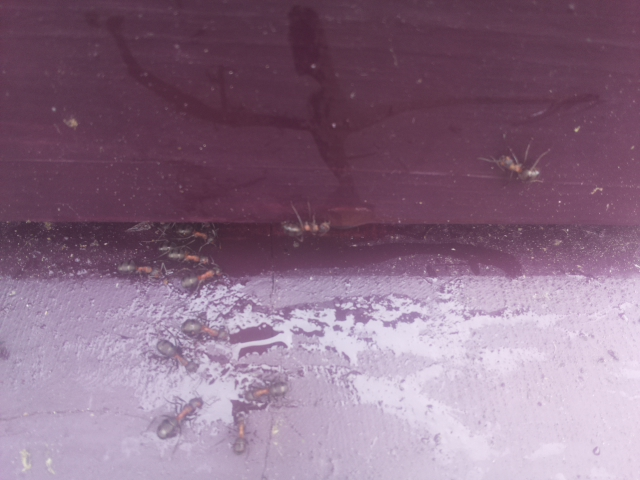ant: (151, 382, 211, 448), (150, 327, 203, 381), (485, 145, 547, 188), (244, 376, 298, 408), (273, 213, 337, 238), (174, 316, 231, 342), (177, 266, 228, 292), (231, 409, 253, 455)
